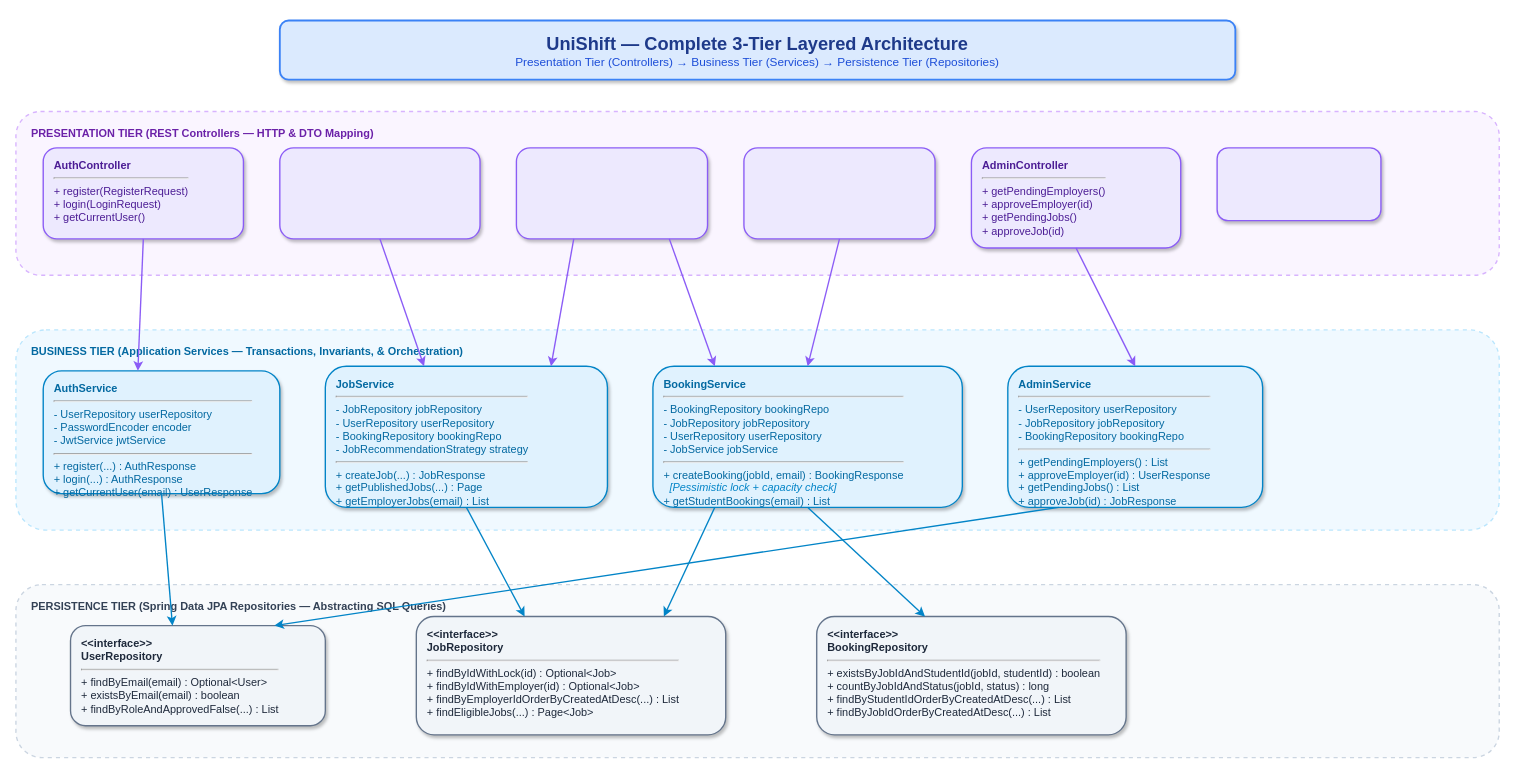
Image size: 1516x774. Some labels were removed from this diagram. The shapes that lost their labels are listed below. From the top down, each one's centre as x and y in pixels, then its label:
At pixel 380 194: "JobController + getPublishedJobs(...) + getJobById(id) + createJob(req)".
At pixel 612 194: "EmployerController + getMyJobs() + getJobBookings(id)".
At pixel 840 194: "BookingController + bookJob(id) + getMyBookings()".
At pixel 1299 185: "HealthController + health() : Map".
